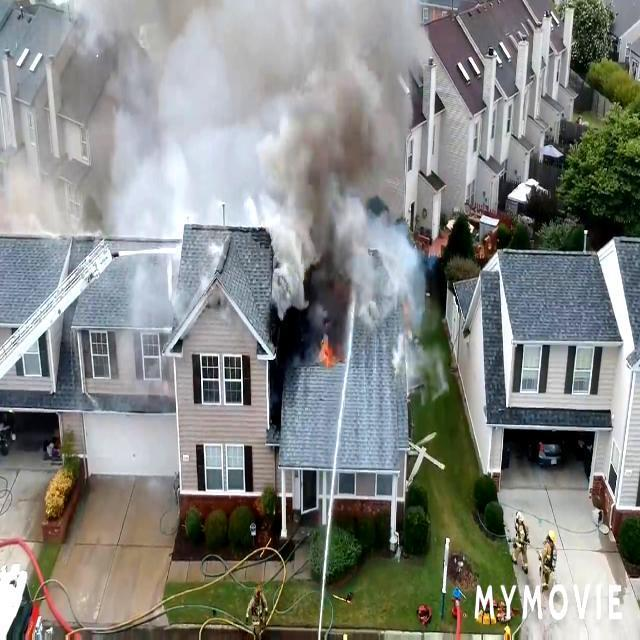Smoke: (92, 0, 404, 357)
